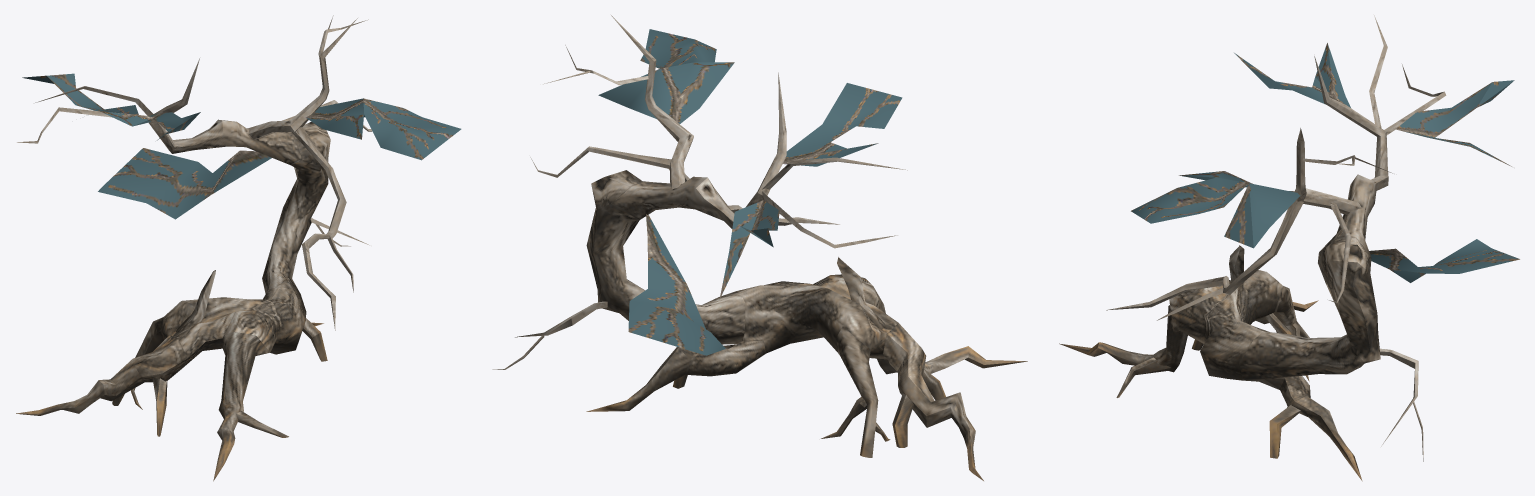
File: xsm_shu_4.FBX
3 renders of one model, left to right at view 1: azimuth 30°, elevation 25°; view 2: azimuth 150°, elevation 25°; view 3: azimuth 270°, elevation 25°, orthographic. The views are drawn at different scales.
Visible parts, largest first — view 1: xsm_shu_4; view 2: xsm_shu_4; view 3: xsm_shu_4.
Part boxes in pixels (x1=…): xsm_shu_4: x1=16, y1=15, x2=461, y2=481; xsm_shu_4: x1=492, y1=15, x2=1027, y2=480; xsm_shu_4: x1=1059, y1=15, x2=1519, y2=481.
Bounding box in the file's own units: 557 × 440 × 513.
